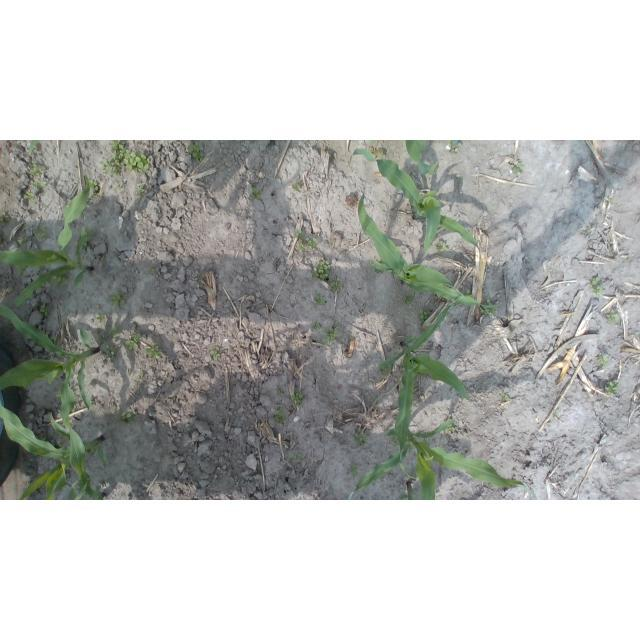Maize: (358, 192, 500, 312), (378, 296, 470, 481), (353, 419, 536, 500), (348, 148, 481, 257), (1, 168, 92, 308), (0, 305, 100, 430), (1, 401, 106, 500), (44, 418, 106, 500), (405, 141, 440, 176), (395, 480, 418, 501)
Weeds: (100, 141, 128, 176), (122, 150, 151, 174), (114, 408, 137, 428), (311, 260, 331, 280), (125, 330, 144, 350), (188, 142, 204, 162), (51, 272, 70, 288), (81, 228, 95, 249), (480, 300, 497, 317), (146, 344, 164, 360), (104, 342, 121, 358), (111, 291, 128, 307), (322, 327, 338, 343), (591, 277, 604, 296), (605, 379, 620, 395), (291, 389, 304, 407), (435, 239, 449, 255), (33, 227, 47, 241), (330, 278, 344, 292), (296, 230, 304, 253), (419, 308, 432, 322), (273, 409, 285, 424), (353, 434, 365, 449), (378, 363, 392, 375), (404, 291, 416, 305), (305, 237, 319, 249), (596, 354, 608, 367), (250, 187, 263, 199), (29, 165, 43, 176), (512, 162, 524, 174), (210, 348, 221, 361), (40, 304, 51, 317), (609, 312, 620, 324), (448, 140, 462, 149), (312, 320, 323, 331), (95, 334, 107, 344), (89, 444, 99, 456), (32, 180, 47, 188), (315, 293, 325, 305), (16, 265, 29, 274), (111, 327, 122, 337), (88, 180, 98, 191), (17, 236, 27, 247), (448, 424, 457, 436), (464, 289, 474, 299), (24, 190, 33, 201), (352, 464, 359, 477), (501, 393, 510, 402), (114, 181, 123, 190), (95, 314, 105, 322), (137, 187, 145, 197), (372, 397, 379, 408), (0, 212, 8, 221), (407, 336, 417, 343), (393, 436, 400, 446), (55, 440, 63, 448), (147, 267, 154, 276), (278, 388, 285, 396), (376, 268, 385, 274), (376, 150, 384, 156), (292, 183, 300, 189), (296, 453, 303, 459), (365, 430, 372, 436), (93, 192, 100, 198), (376, 260, 384, 265), (608, 199, 614, 205), (136, 376, 143, 381), (371, 141, 378, 146), (56, 390, 61, 396), (49, 336, 55, 340), (284, 456, 288, 461), (553, 412, 557, 417), (0, 244, 4, 248)
